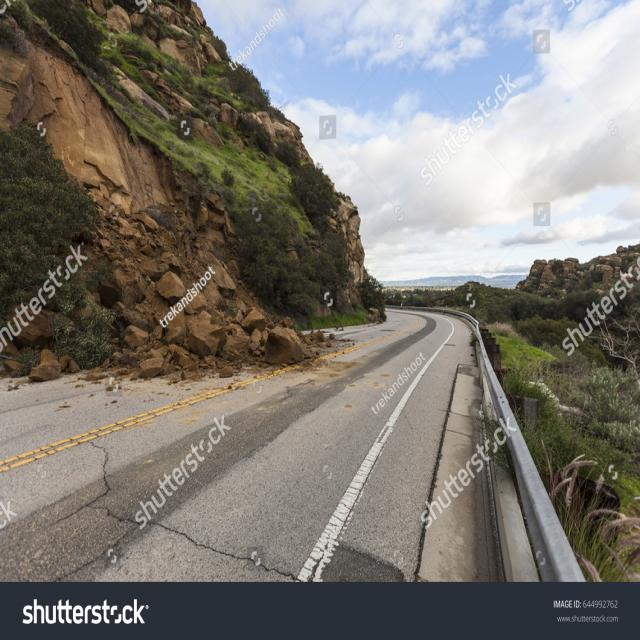landSliding: (4, 31, 481, 471)
